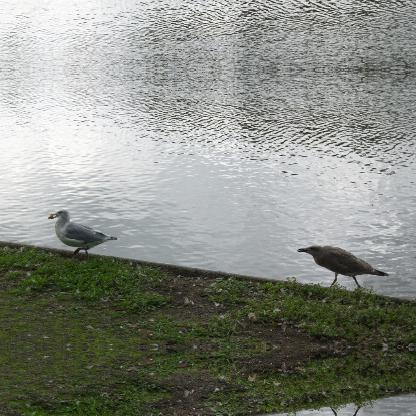Bird: (296, 240, 392, 289), (50, 206, 122, 262), (295, 402, 393, 415)
